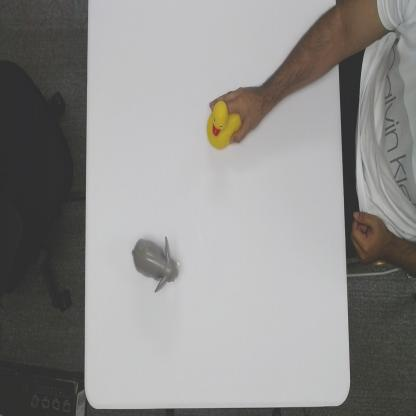Arm: (261, 7, 338, 116)
Duck: (206, 98, 243, 152)
Elephant: (132, 234, 180, 294)
Hand: (210, 83, 263, 143)
